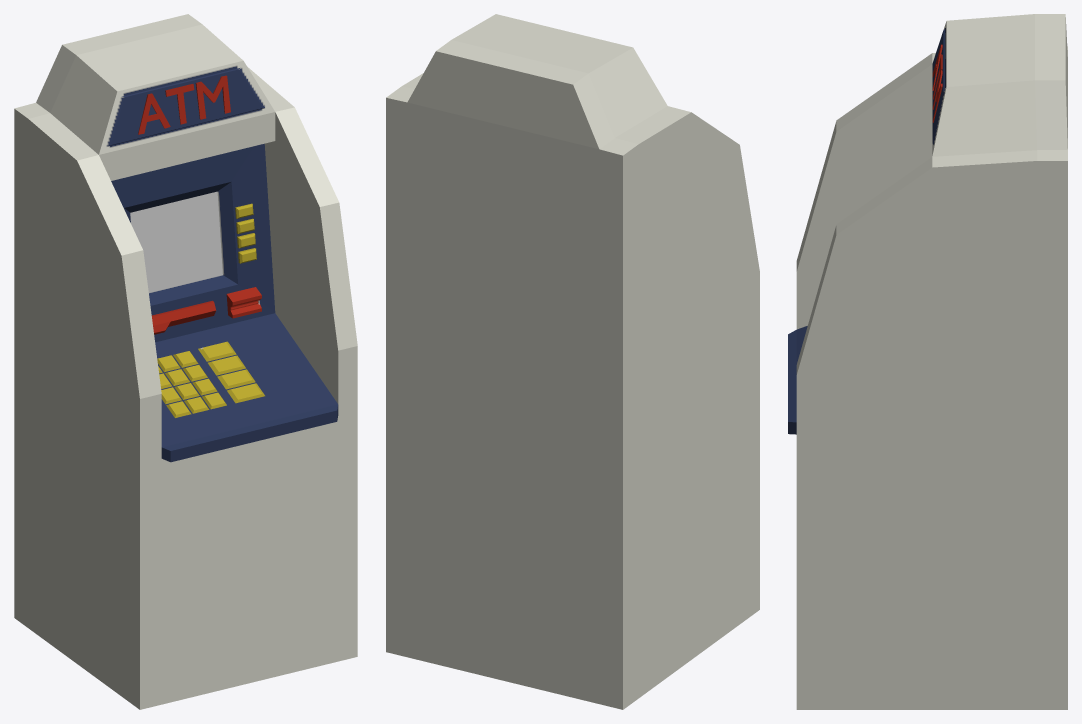
Rendered from ATM.fbx.
3 views of the same model, side by side, from view 1: azimuth 30°, elevation 25°; view 2: azimuth 150°, elevation 25°; view 3: azimuth 270°, elevation 25° (orthographic). The views are drawn at different scales.
Visible parts, largest first — view 1: ATM; view 2: ATM; view 3: ATM.
Part boxes in pixels (left/top/right/bottom): ATM: left=14, top=14, right=357, bottom=709; ATM: left=386, top=14, right=759, bottom=709; ATM: left=788, top=14, right=1067, bottom=709.
Size of the model in its own units: 462 by 1139 by 477.
